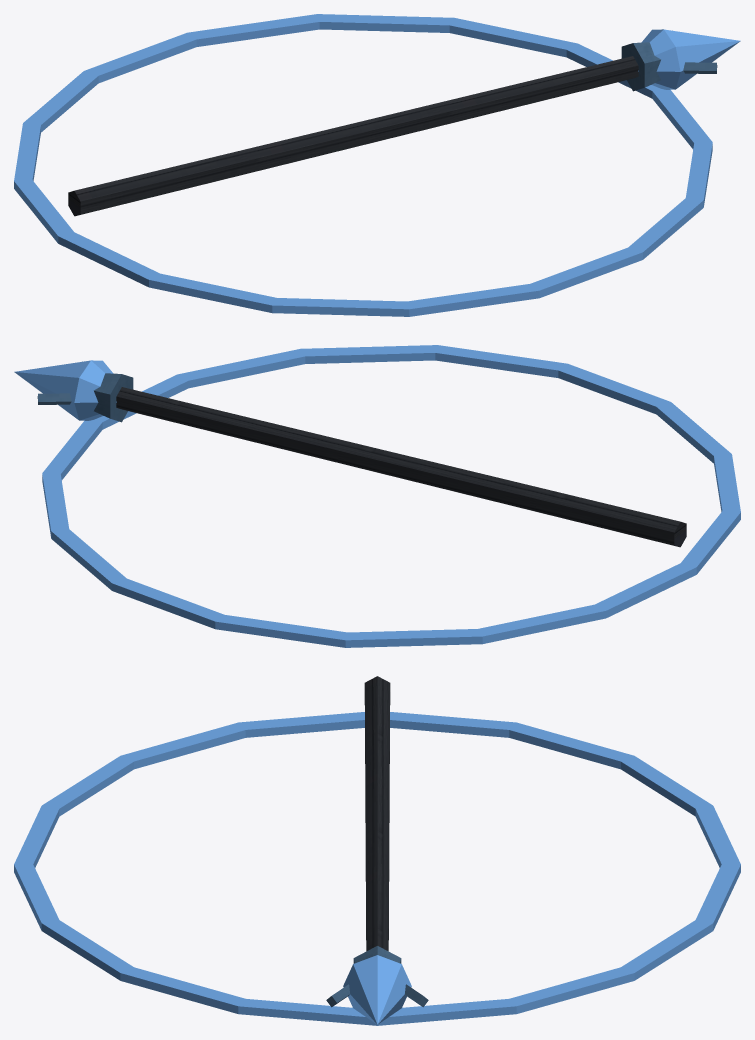
The model's file is loot_staff_g1.glb.
3 renders of one model, top to bottom at view 1: azimuth 30°, elevation 25°; view 2: azimuth 150°, elevation 25°; view 3: azimuth 270°, elevation 25°, orthographic. The views are drawn at different scales.
Visible parts, largest first — view 1: loot_staff_g1; view 2: loot_staff_g1; view 3: loot_staff_g1.
Boxes of the visible parts, bbox=[...] form: loot_staff_g1: bbox=[14, 14, 740, 316]; loot_staff_g1: bbox=[14, 345, 740, 647]; loot_staff_g1: bbox=[14, 676, 740, 1025].
Bounding box in the file's own units: 1.77 × 0.165 × 1.58.
Materials: 3 (3 with a texture image).
